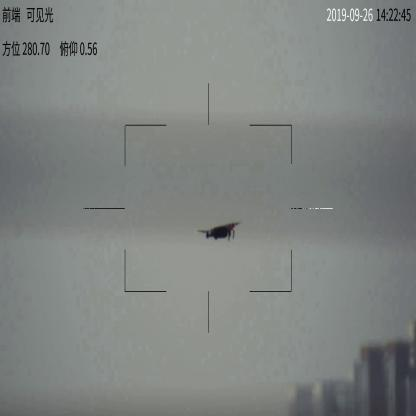uav: (203, 219, 240, 243)
